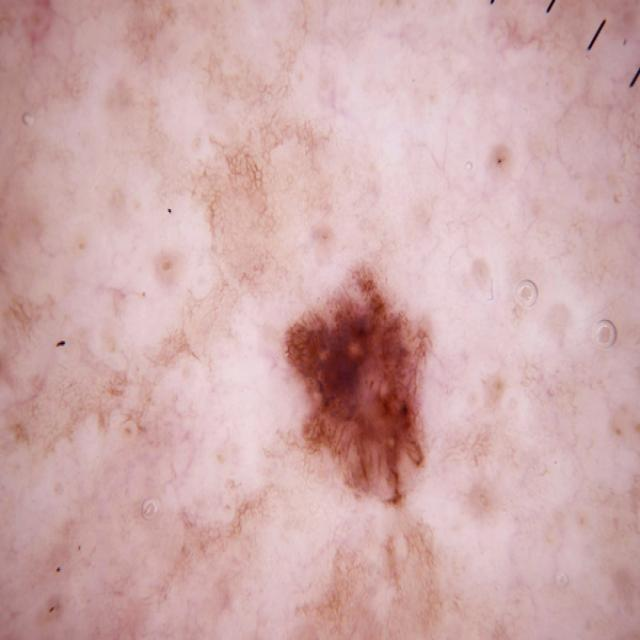NV: (278, 259, 434, 503)
